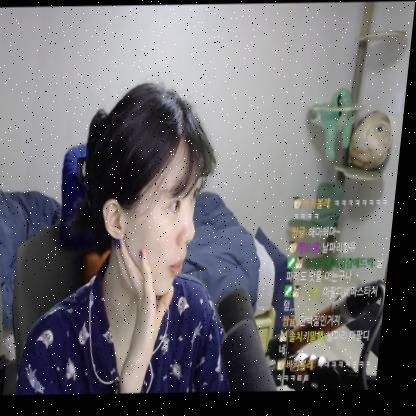streamer: (23, 82, 264, 396)
